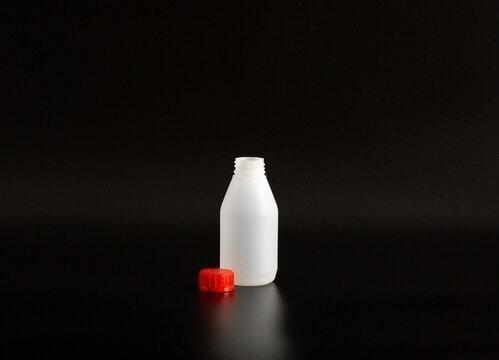bottle-plastic: (216, 154, 282, 288)
